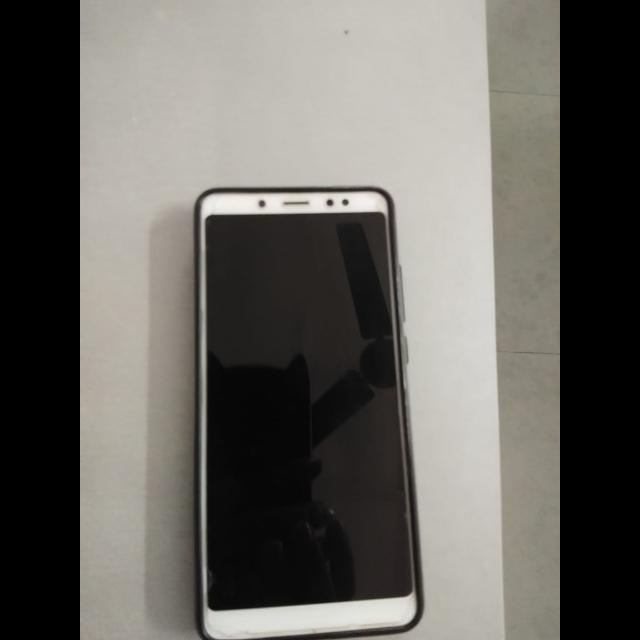Smartphone: (172, 172, 434, 640)
